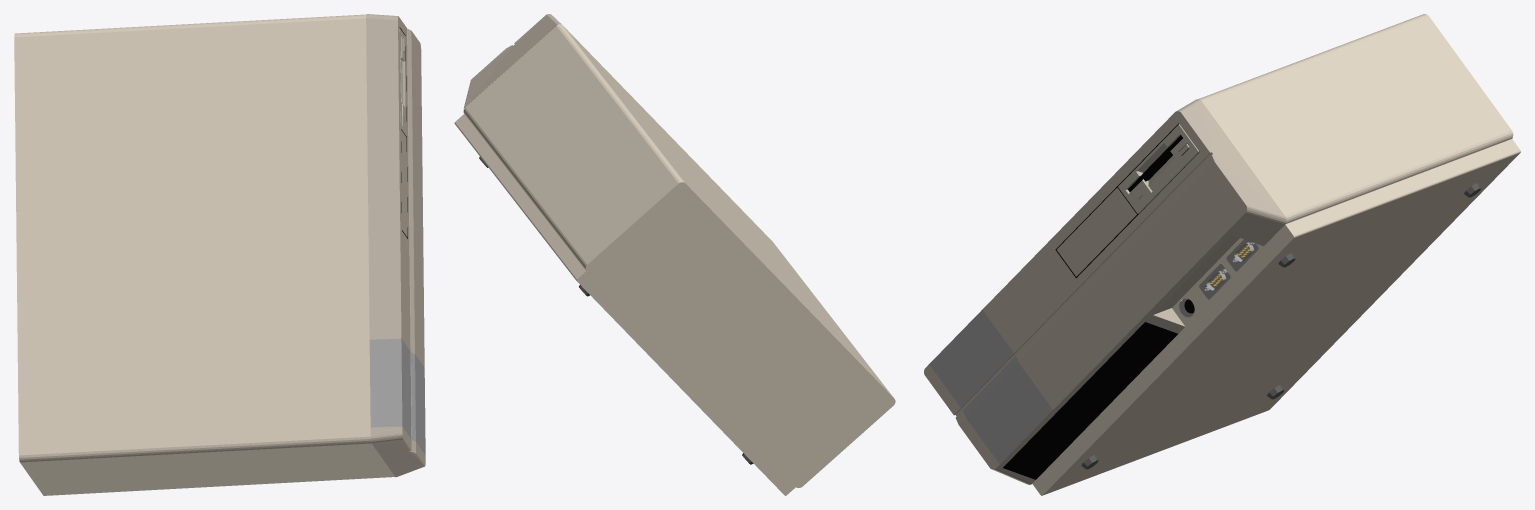
Rendered from STATION.glb.
The picture shows the model from 3 angles, left to right: view 1: azimuth 30°, elevation 25°; view 2: azimuth 150°, elevation 25°; view 3: azimuth 270°, elevation 25°; orthographic projection. The views are drawn at different scales.
Visible parts, largest first — view 1: _0; view 2: _0; view 3: _0.
Boxes of the visible parts, x1,y1,x2,y2 form: _0: (14, 14, 425, 495); _0: (454, 14, 895, 495); _0: (924, 14, 1520, 495).
Size of the model in its own units: 9.15 by 8.65 by 10.21.
